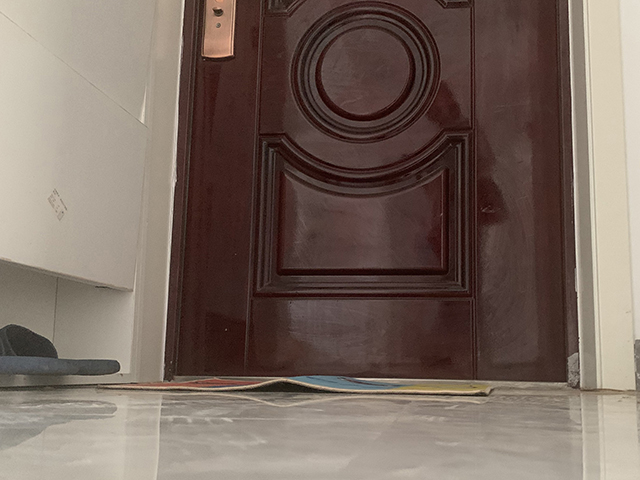carpet: (95, 373, 495, 396)
